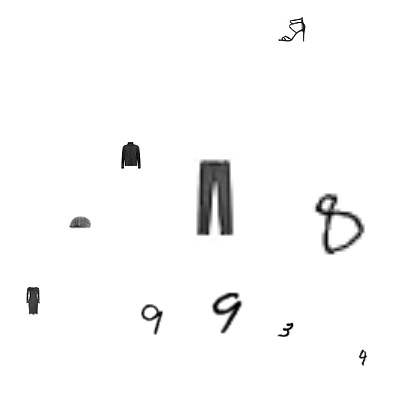3: (276, 319, 298, 341)
4: (352, 345, 374, 367)
8: (292, 179, 376, 263)
9: (199, 281, 255, 337), (131, 294, 173, 336)
Bag: (69, 211, 91, 233)
Coat: (117, 141, 145, 169)
Dress: (19, 287, 47, 315)
Sandal: (278, 15, 306, 43)
Trouser: (170, 157, 254, 241)
